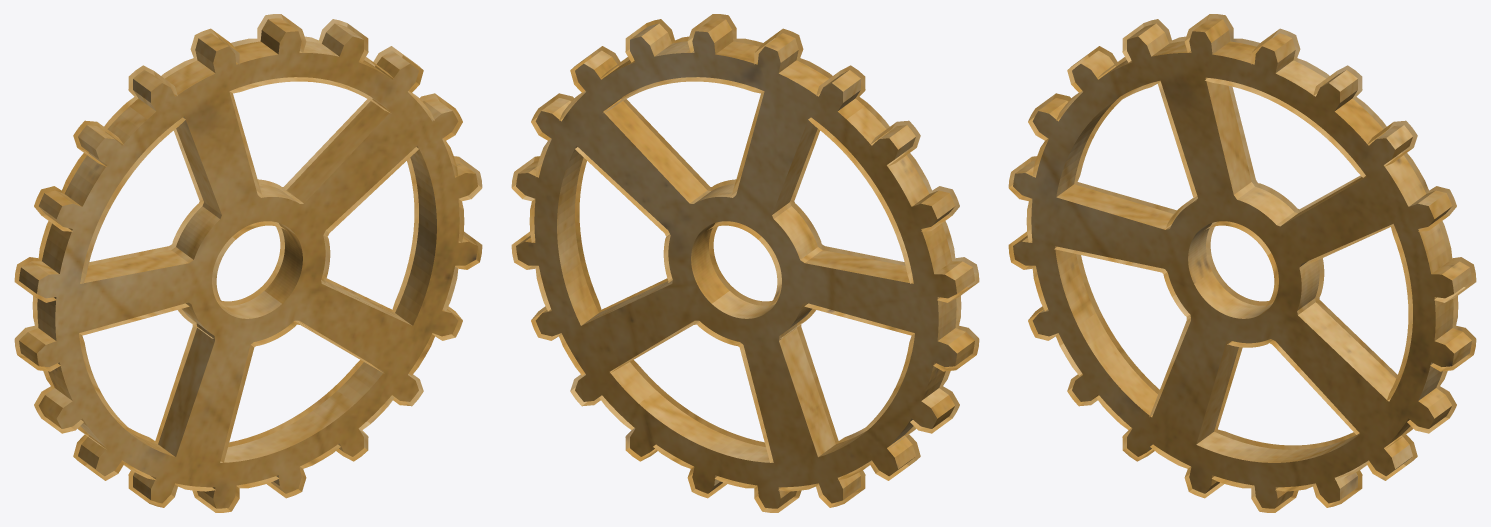
Rendered from Sprocket.glb.
The picture shows the model from 3 angles, left to right: view 1: azimuth 30°, elevation 25°; view 2: azimuth 150°, elevation 25°; view 3: azimuth 330°, elevation 25°; orthographic projection.
Visible parts, largest first — view 1: CogNormal, CogFlipped; view 2: CogNormal, CogFlipped; view 3: CogNormal, CogFlipped.
Part boxes in pixels (box(x1,y1,x2,y2)): CogNormal: box(19, 18, 477, 508); CogFlipped: box(14, 14, 482, 512); CogNormal: box(516, 18, 974, 508); CogFlipped: box(511, 14, 979, 512); CogNormal: box(1013, 18, 1471, 508); CogFlipped: box(1008, 14, 1476, 512).
Bounding box in the file's own units: 1.64 × 1.64 × 0.1444.
2 materials, 2 textured.
